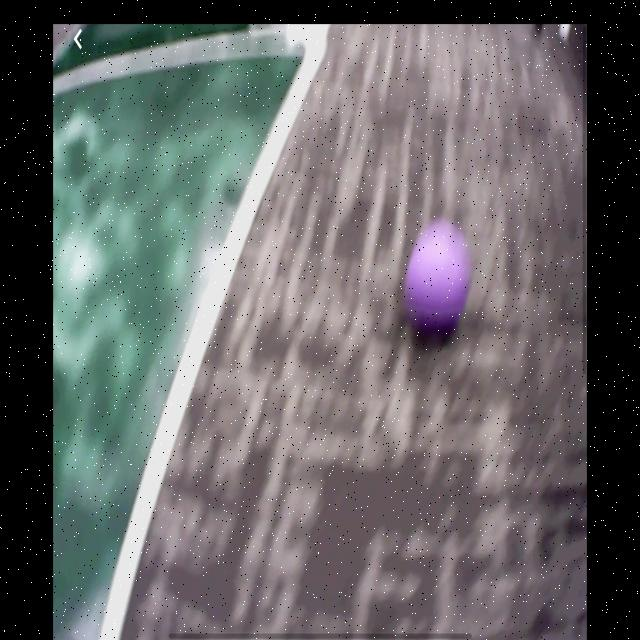ball: (404, 235, 473, 329)
